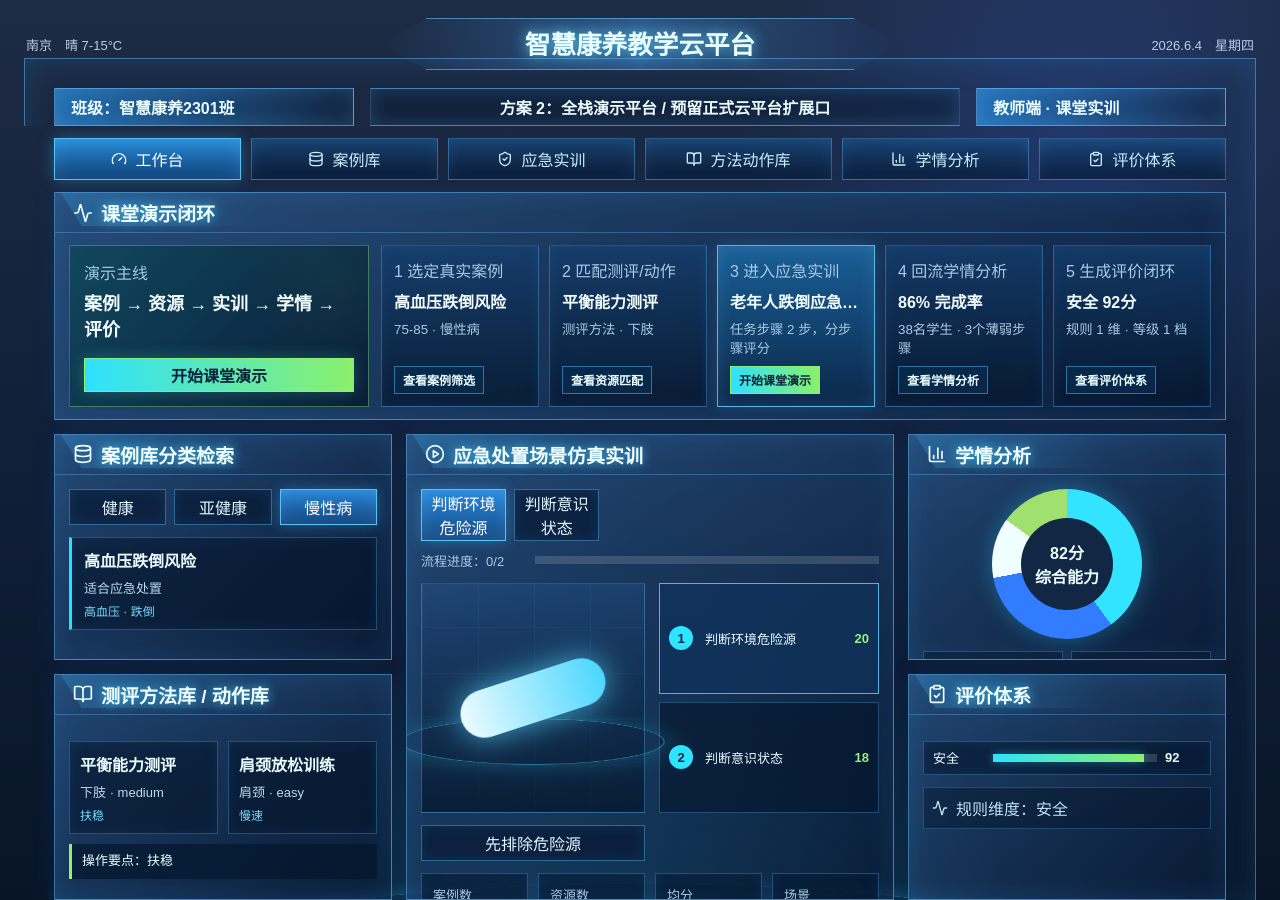
App › switches from cockpit to module pages
Click the button named "案例库" at point(344, 159), box [251, 138, 438, 180]
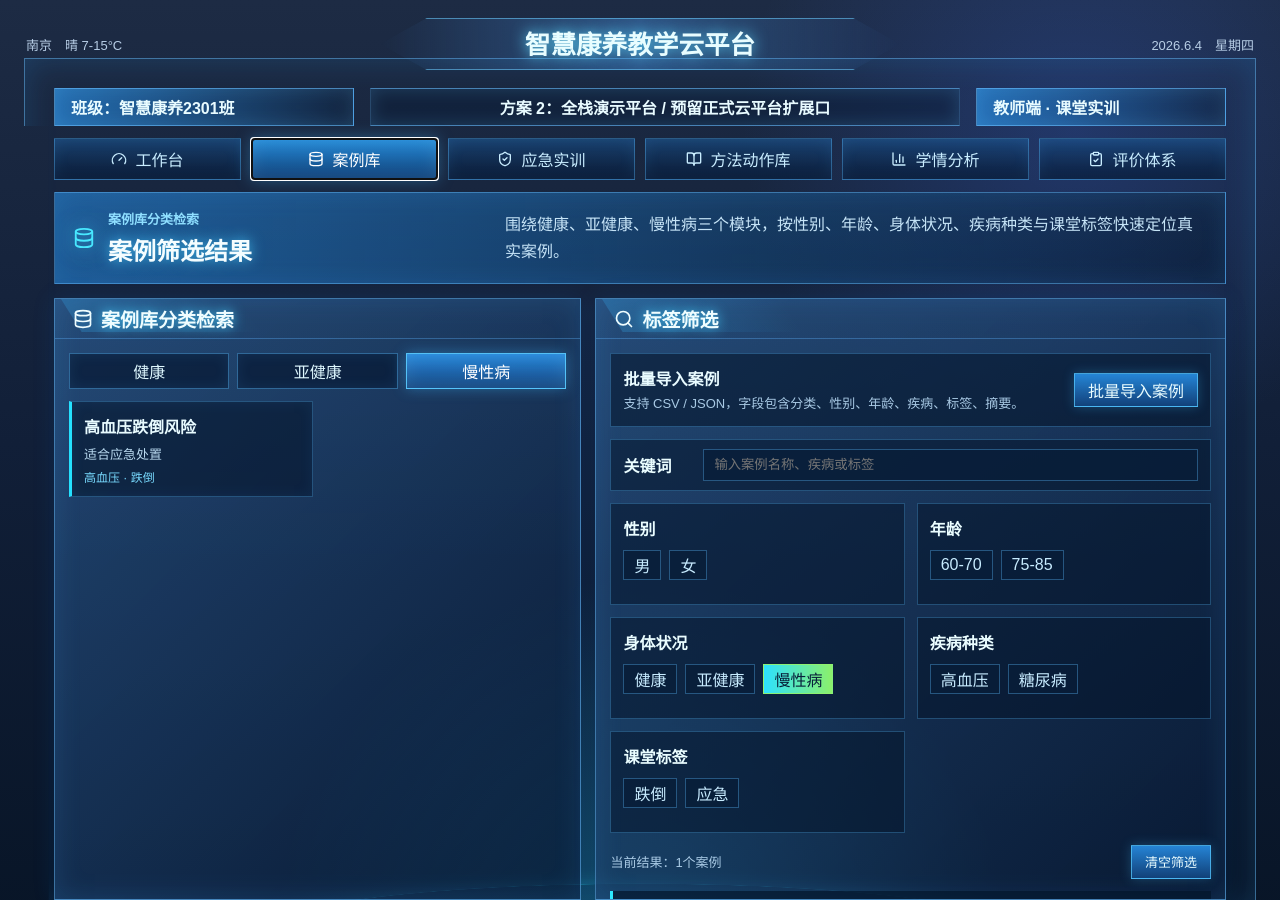
Check: the heading "案例筛选结果" is shown, box [108, 232, 252, 267]
Click the button named "应急实训" at point(542, 159), box [448, 138, 635, 180]
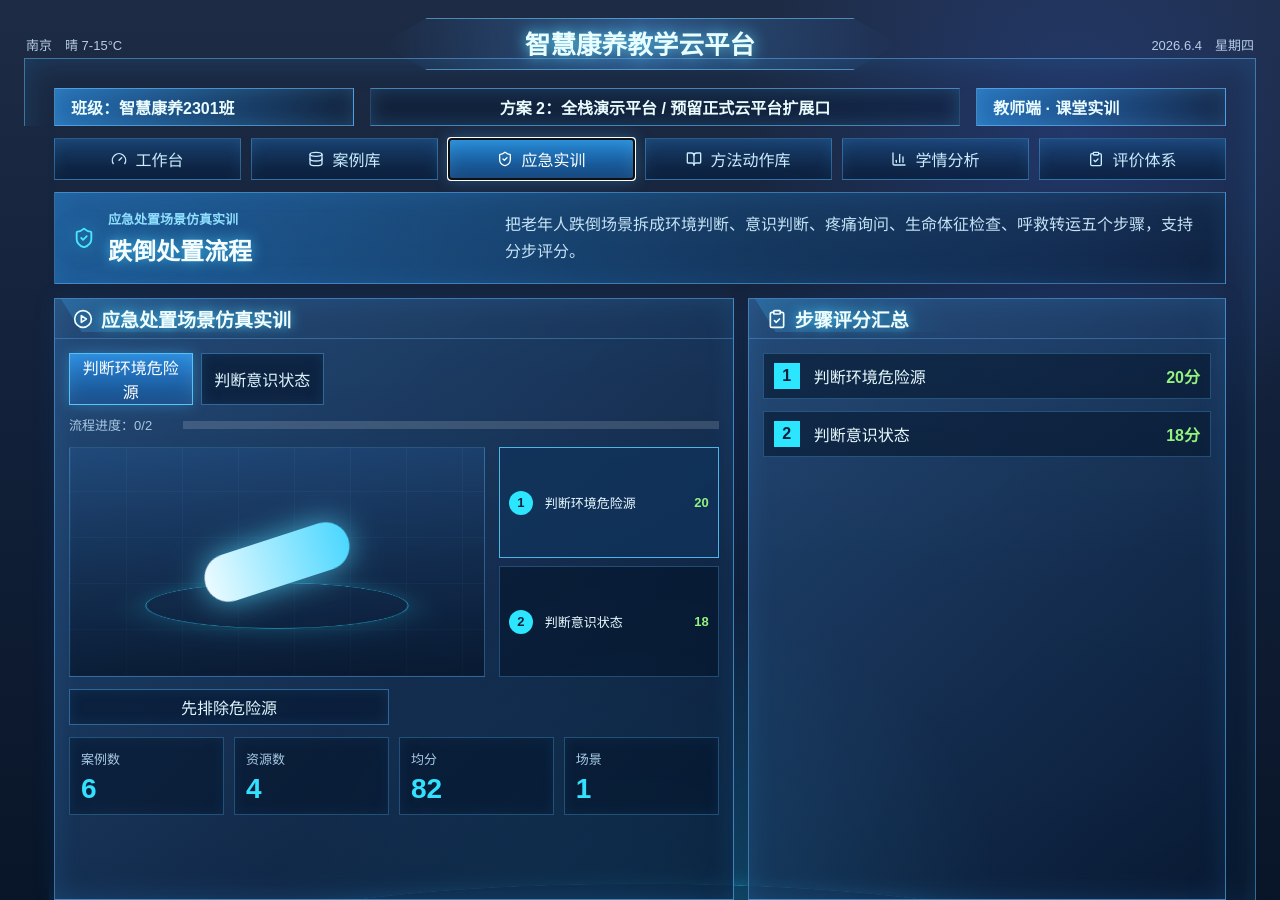
Check: the heading "跌倒处置流程" is shown, box [108, 232, 252, 267]
Click the button named "方法动作库" at point(738, 159), box [645, 138, 832, 180]
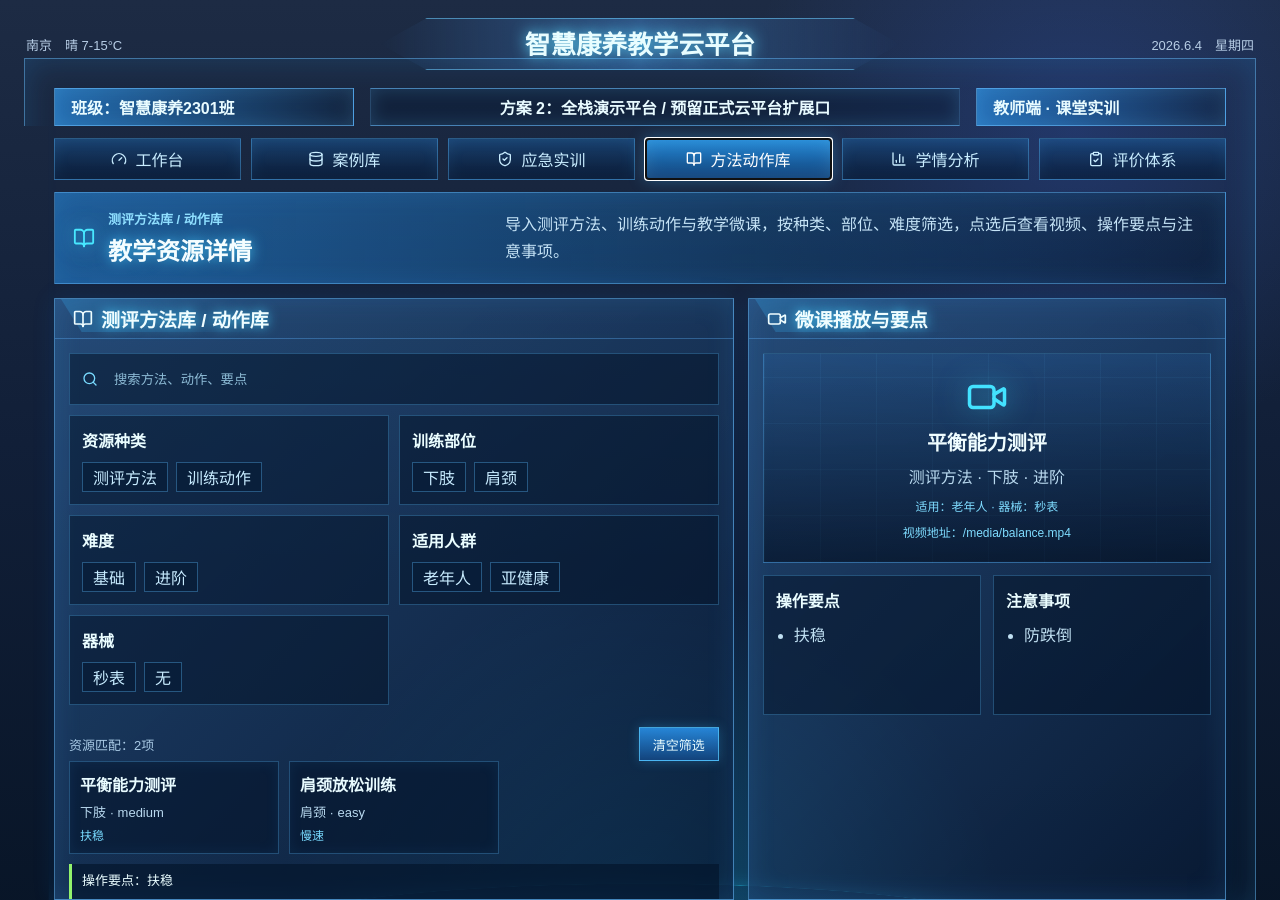
Check: the heading "教学资源详情" is shown, box [108, 232, 252, 267]
Click the button named "学情分析" at point(936, 159), box [842, 138, 1029, 180]
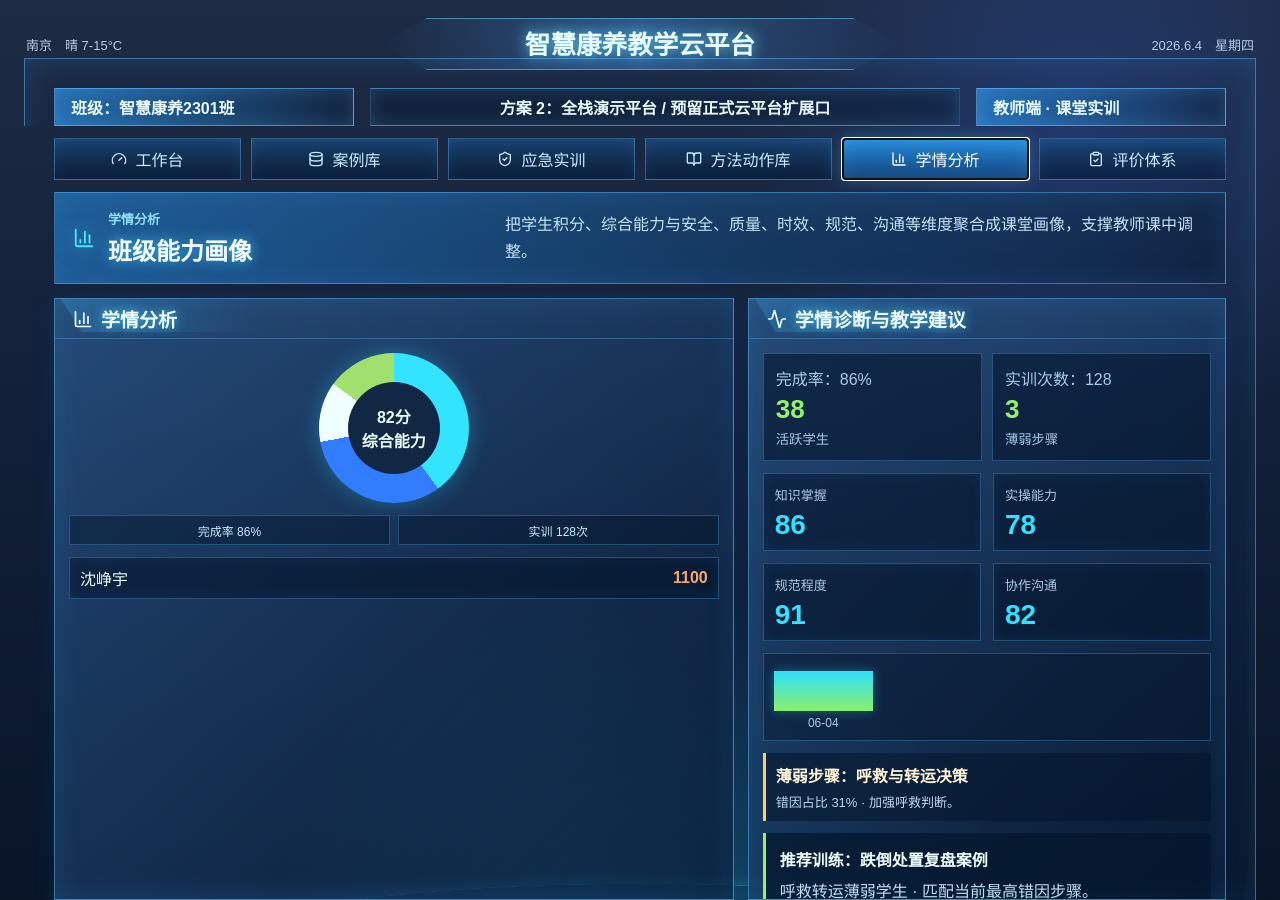
Check: the heading "班级能力画像" is shown, box [108, 232, 252, 267]
Click the button named "评价体系" at point(1132, 159), box [1039, 138, 1226, 180]
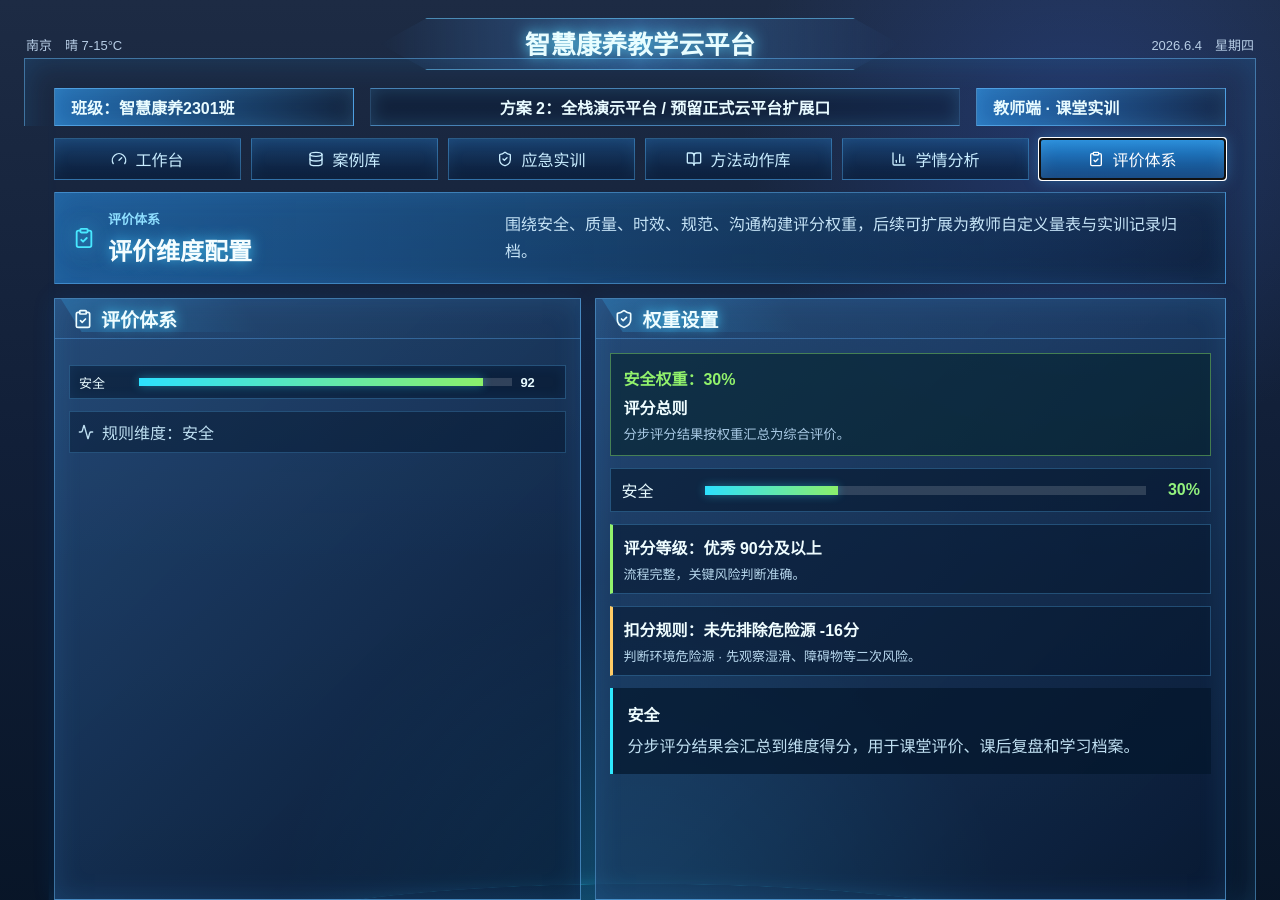
Check: the heading "评价维度配置" is shown, box [108, 232, 252, 267]
